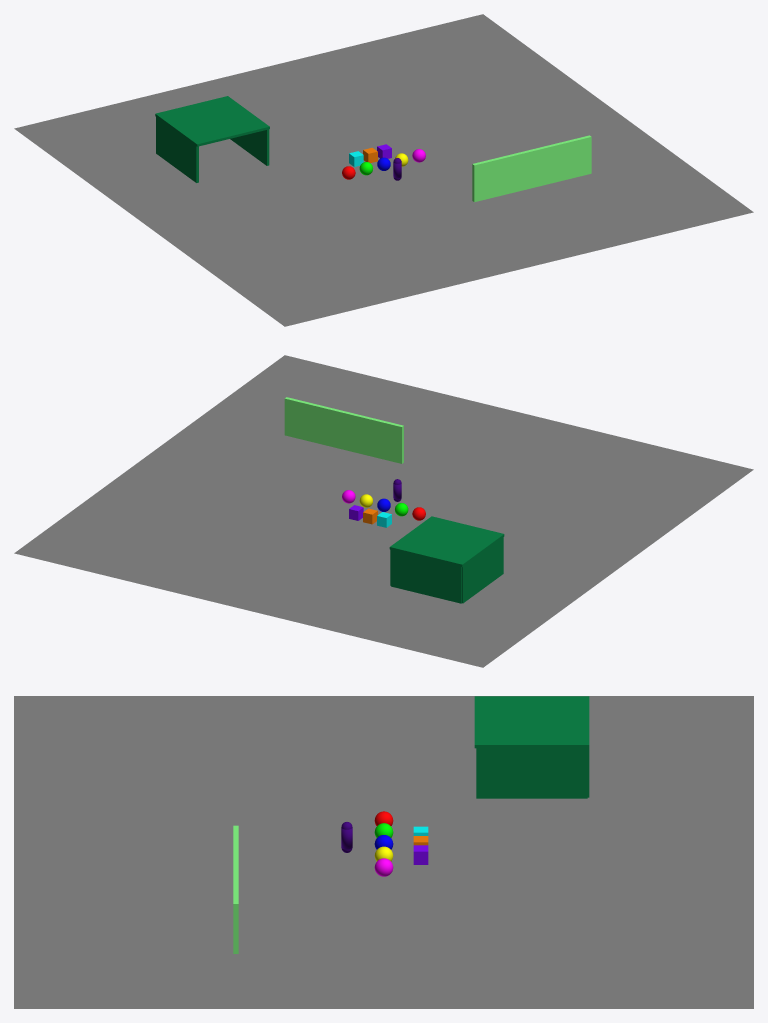
3 renders of one model, top to bottom at view 1: azimuth 30°, elevation 25°; view 2: azimuth 150°, elevation 25°; view 3: azimuth 270°, elevation 25°, orthographic. The views are drawn at different scales.
Visible parts, largest first — view 1: Floor, Room, BacklitWall; view 2: Floor, Room, BacklitWall; view 3: Floor, Room, BacklitWall.
Part boxes in pixels (x1,y1,x2,y2): Floor: [14, 14, 753, 326]; Room: [155, 96, 269, 182]; BacklitWall: [472, 135, 591, 202]; Floor: [14, 355, 753, 667]; Room: [389, 516, 504, 603]; BacklitWall: [284, 397, 403, 463]; Floor: [14, 696, 753, 1008]; Room: [474, 696, 589, 798]; BacklitWall: [233, 825, 238, 953].
Size of the model in its own units: 40 by 3.2 by 40.
